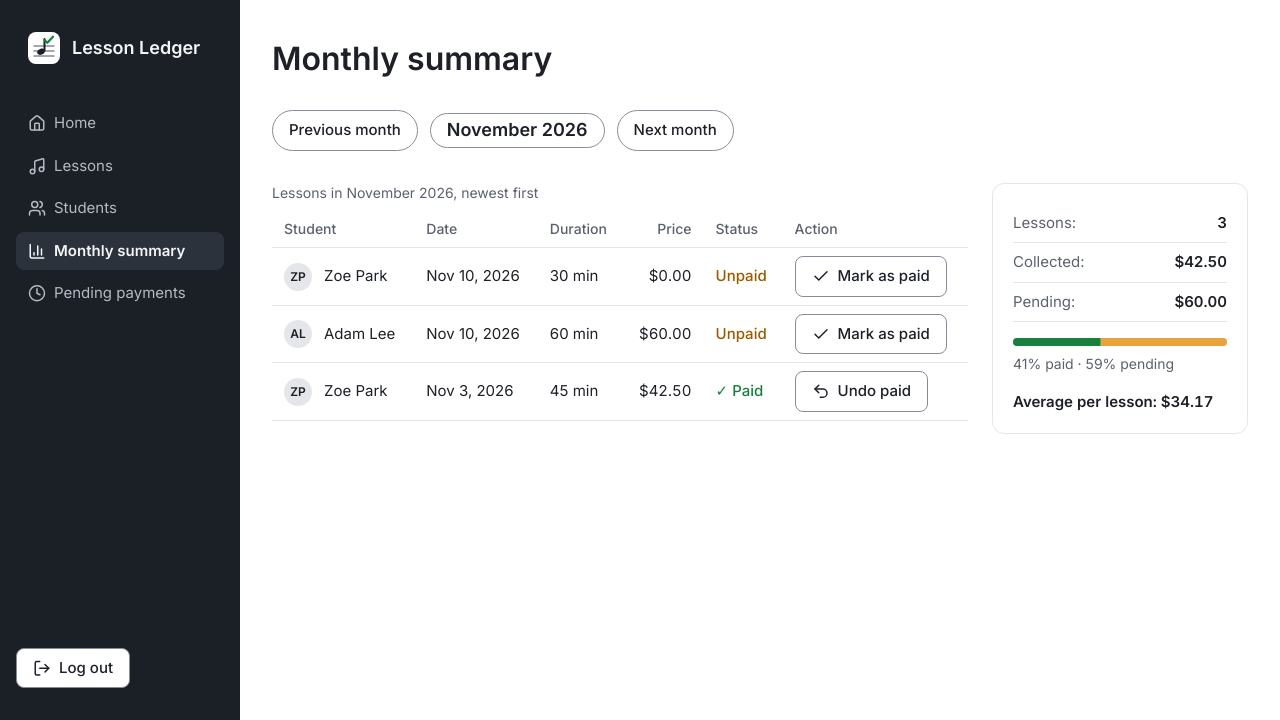
AC-1 monthly summary › previous and next month change the URL, heading, totals and lessons
Expected: the heading "Monthly summary" is shown, [272, 39, 552, 78]
Expected: the table is shown, [272, 183, 968, 421]
Click the button "Previous month" at (345, 131), box [272, 110, 418, 151]
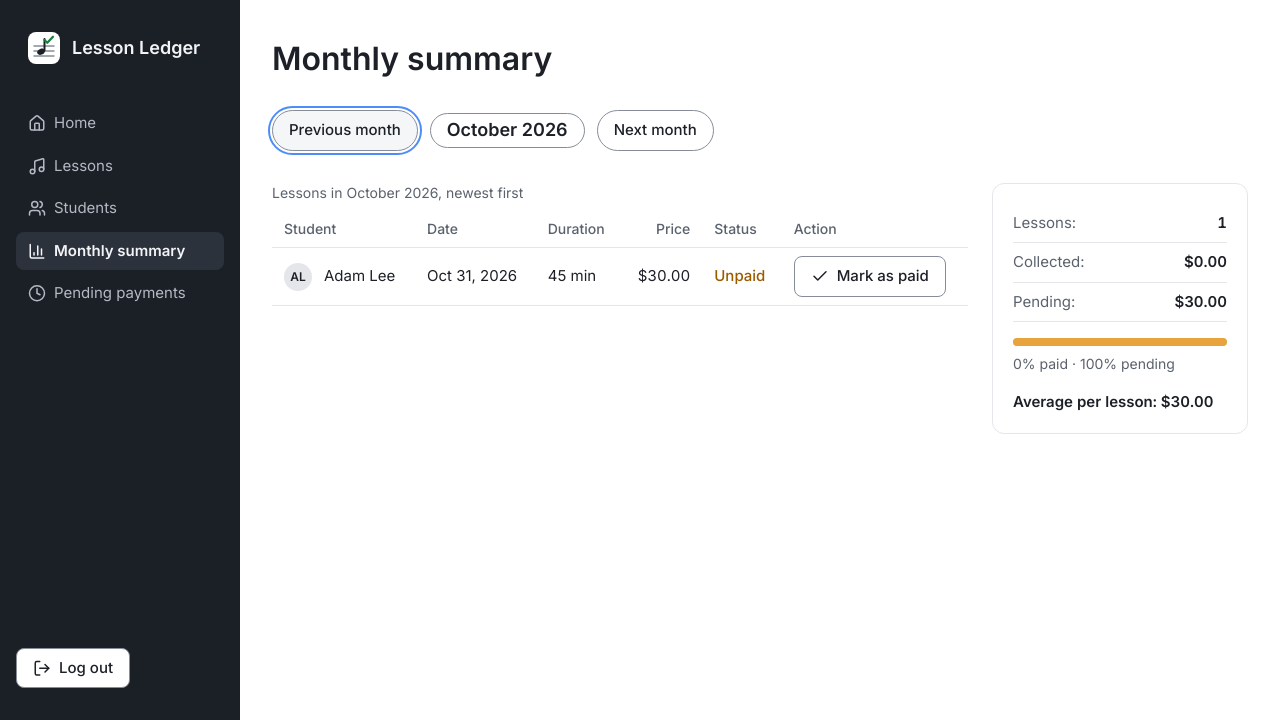
Expected: the heading "October 2026" is shown, [430, 114, 585, 148]
Expected: the table "Lessons in October 2026, newest first" is shown, [272, 183, 968, 306]
Click the button "Next month" at (655, 131), box [597, 110, 714, 151]
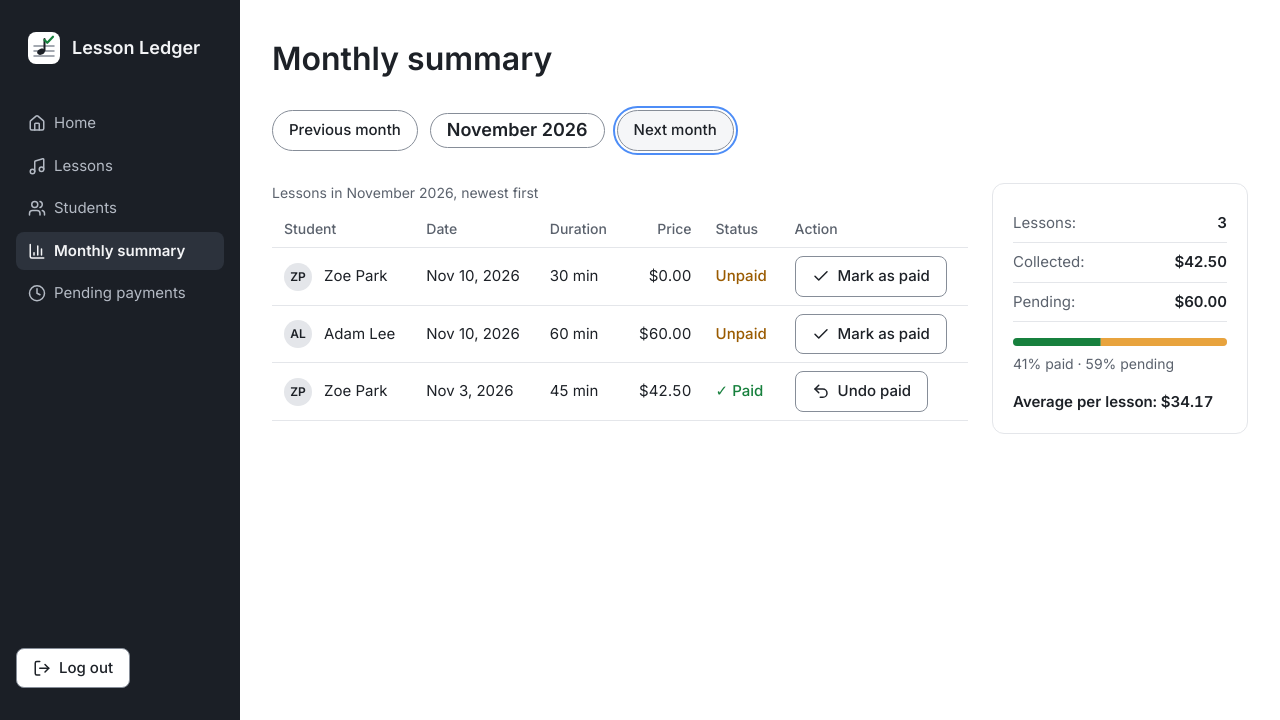
Click the button "Next month" at (675, 131), box [616, 110, 734, 151]
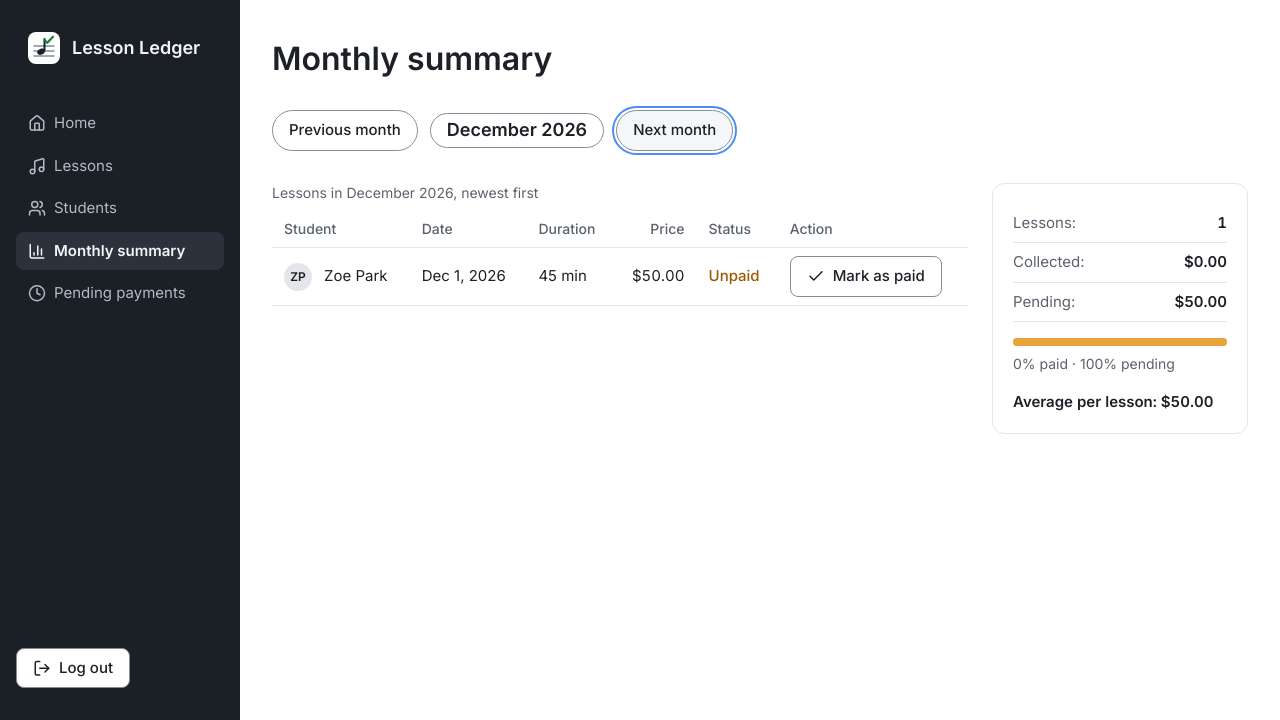
Expected: the heading "December 2026" is shown, [430, 114, 604, 148]
Expected: the table "Lessons in December 2026, newest first" is shown, [272, 183, 968, 306]
